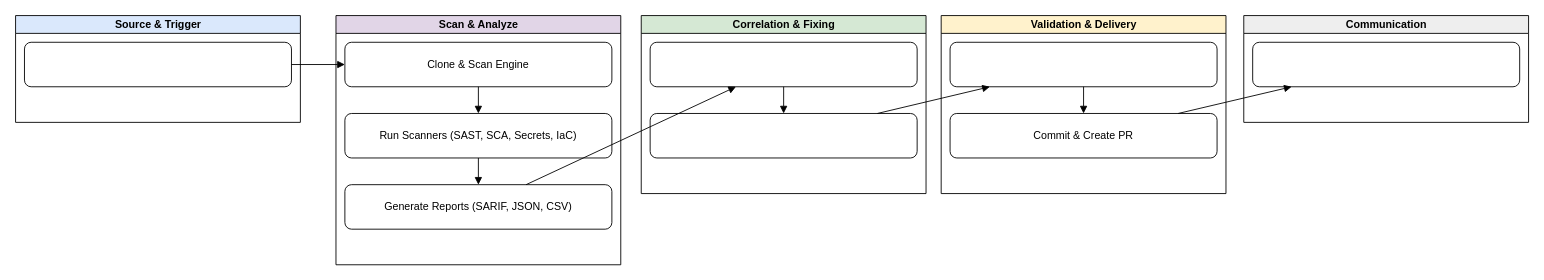
The diagram is 1544 pixels wide and 280 high, and some of its shapes have lost their labels. The centre of each missing label's shape, as x and y in pixels:
Apply Fixes (Auto/Partial): the point at 783,135
GitHub Repository: the point at 157,64
Notify / Dashboard Update: the point at 1386,64
Read CVE Rules / Vuln Fix DB (Map Scan Results to Known Vulns): the point at 783,64
Run CI Validation (Tests): the point at 1083,64
